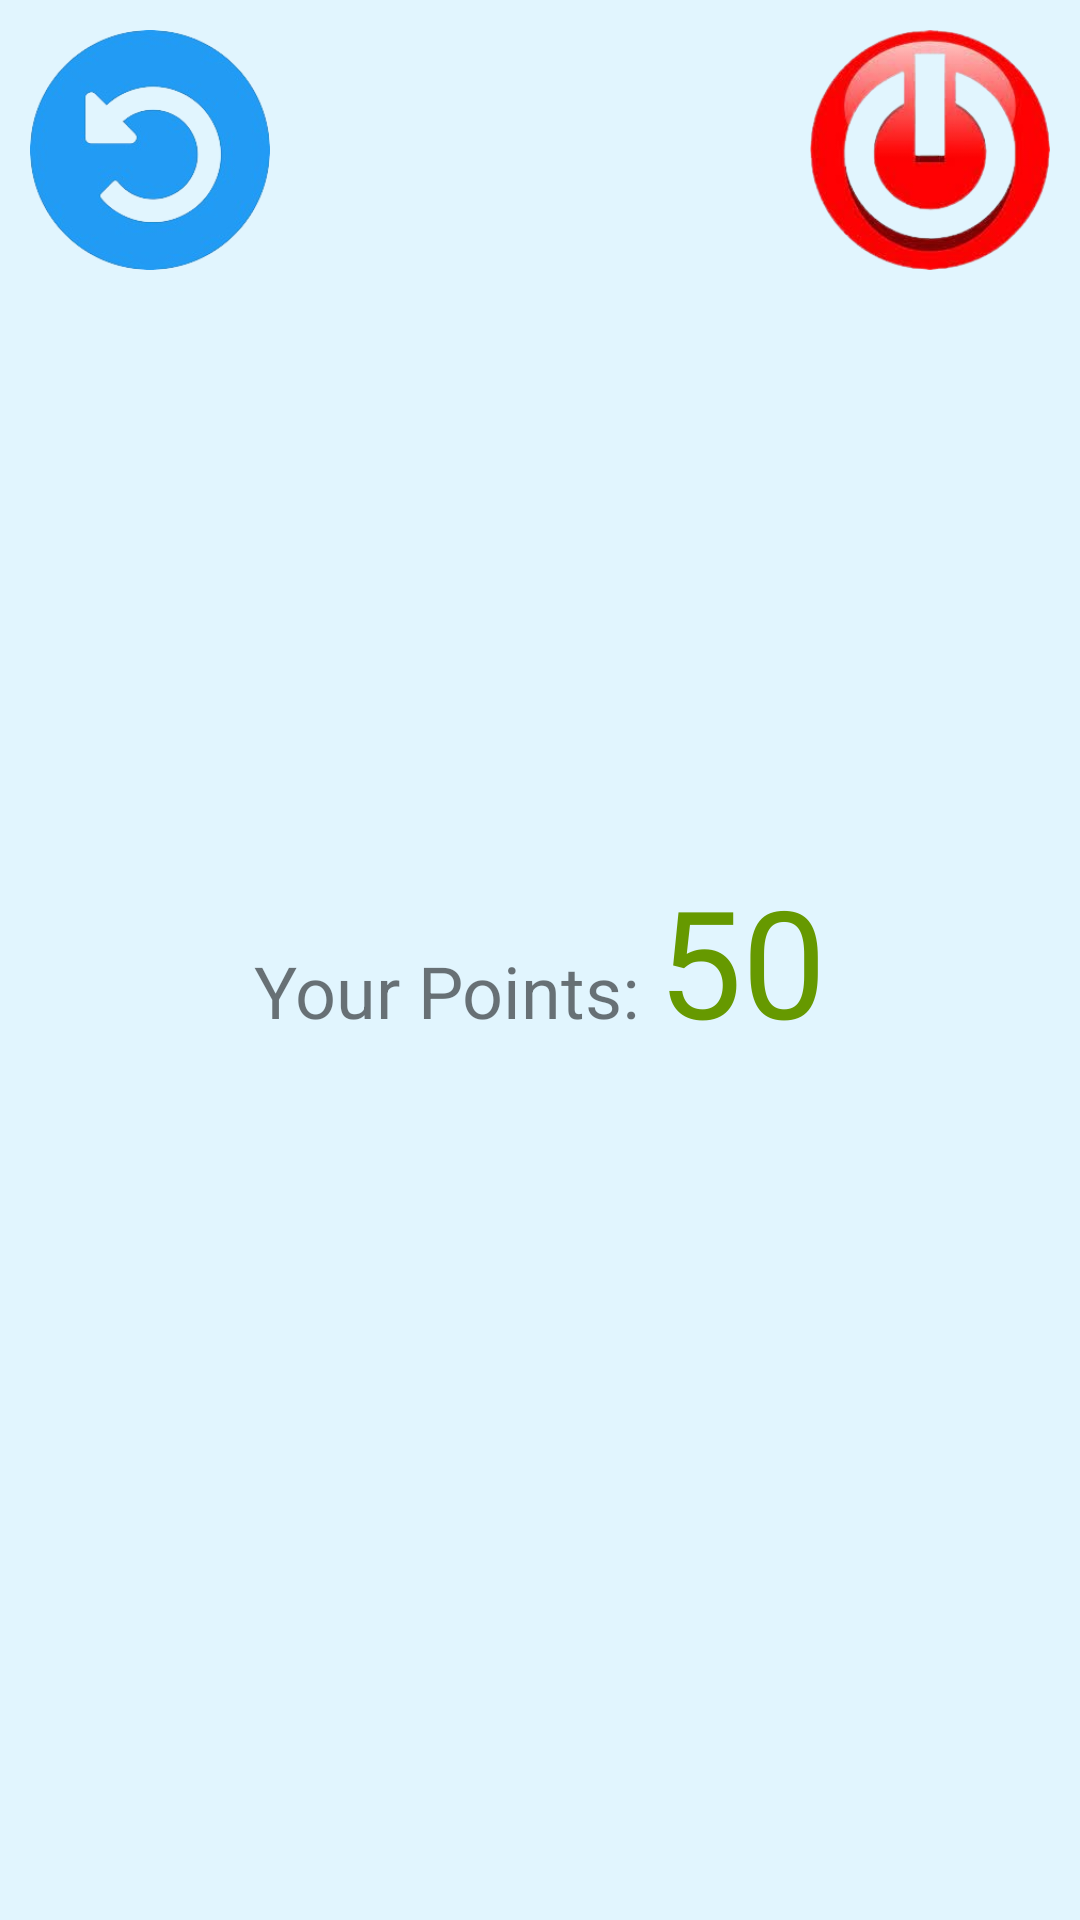

Where to tap for icons on this 1080*1920 app screen, as (x=x, y=y):
exit: (x=930, y=150)
restart: (x=150, y=150)
